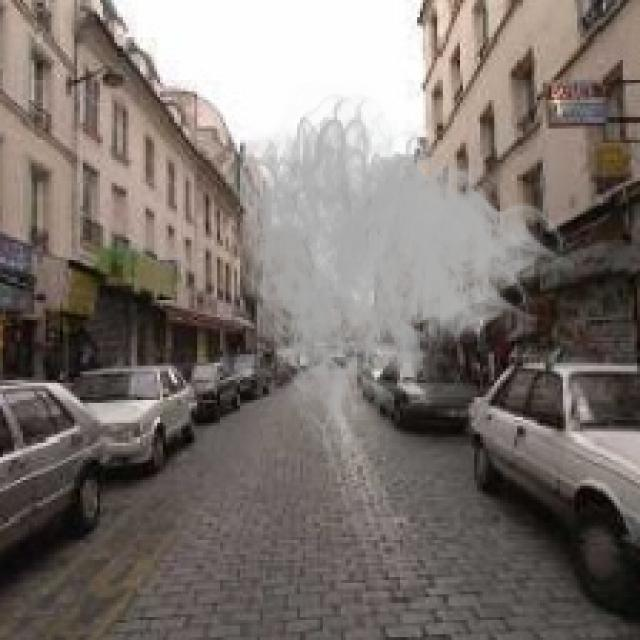Smoke: (217, 83, 574, 460)
